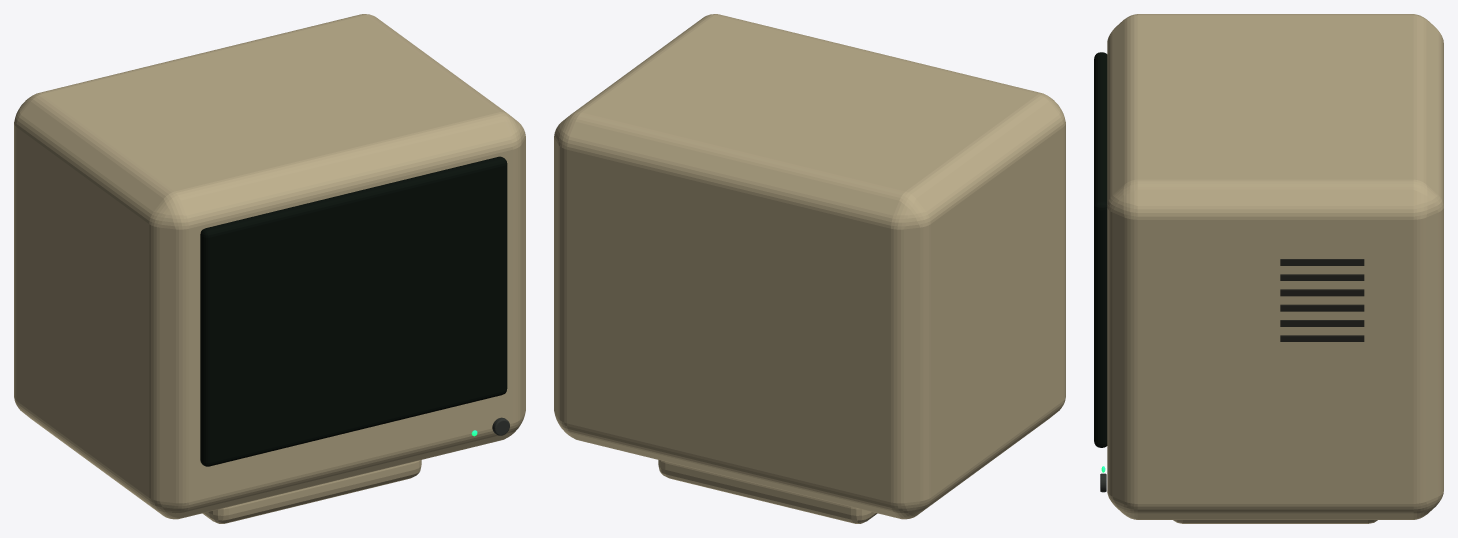
The model's file is crt-monitor.glb.
3 renders of one model, left to right at view 1: azimuth 30°, elevation 25°; view 2: azimuth 150°, elevation 25°; view 3: azimuth 270°, elevation 25°, orthographic. The views are drawn at different scales.
Parts seen in each view (by area): view 1: CRT_Case, CRT_Screen, CRT_Base; view 2: CRT_Case, CRT_Base; view 3: CRT_Case, CRT_Screen, CRT_Base, CRT_Vent_01.002, CRT_Vent_01.003, CRT_Vent_01, CRT_Vent_01.001, CRT_Vent_01.004, CRT_Vent_01.005.
Part boxes in pixels (bbox=[...]): CRT_Case: bbox=[14, 14, 525, 519]; CRT_Screen: bbox=[200, 156, 507, 466]; CRT_Base: bbox=[202, 460, 421, 523]; CRT_Case: bbox=[554, 14, 1065, 519]; CRT_Base: bbox=[658, 460, 877, 523]; CRT_Case: bbox=[1107, 14, 1443, 519]; CRT_Screen: bbox=[1094, 52, 1107, 447]; CRT_Base: bbox=[1173, 520, 1377, 523]; CRT_Vent_01.002: bbox=[1280, 289, 1364, 296]; CRT_Vent_01.003: bbox=[1280, 304, 1364, 311]; CRT_Vent_01: bbox=[1280, 274, 1364, 280]; CRT_Vent_01.001: bbox=[1280, 259, 1364, 265]; CRT_Vent_01.004: bbox=[1280, 320, 1364, 326]; CRT_Vent_01.005: bbox=[1280, 335, 1364, 341].
Size of the model in its own units: 2.41 by 2.31 by 1.87.
